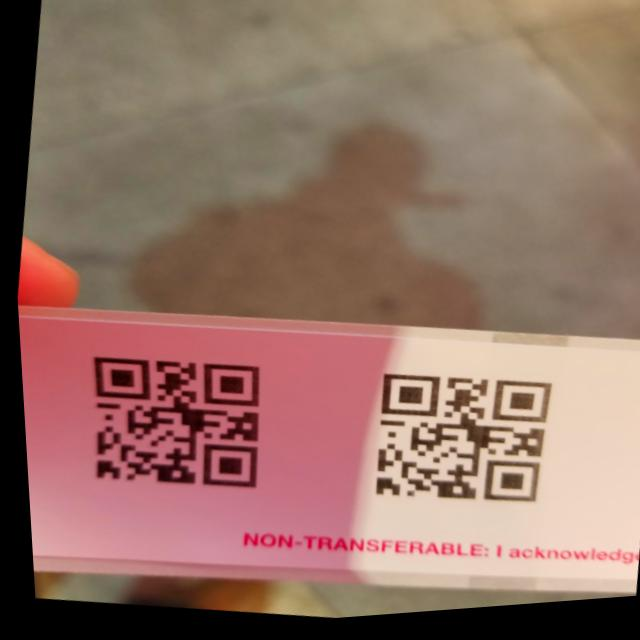QR_CODE: (330, 349, 573, 543), (67, 318, 299, 518)
